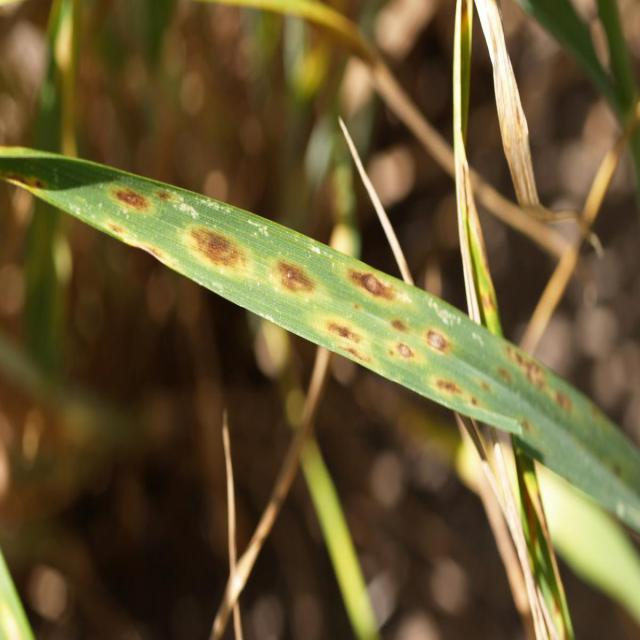wheat-septoria: (507, 348, 572, 414), (317, 315, 379, 367), (186, 224, 249, 272), (271, 257, 324, 300), (347, 266, 406, 303), (430, 376, 486, 407), (109, 184, 151, 216), (4, 171, 47, 194), (389, 340, 425, 362), (424, 329, 450, 352), (480, 290, 498, 316), (144, 243, 168, 262), (493, 367, 513, 388), (151, 189, 181, 202), (107, 219, 128, 237), (390, 319, 409, 334), (519, 418, 535, 435)
